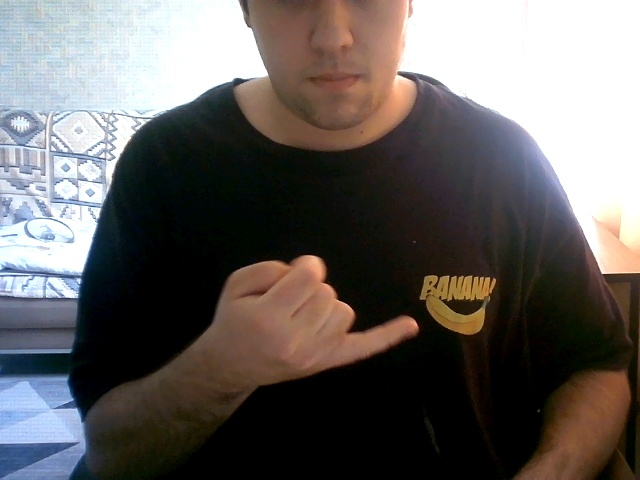bad: (205, 236, 427, 393)
